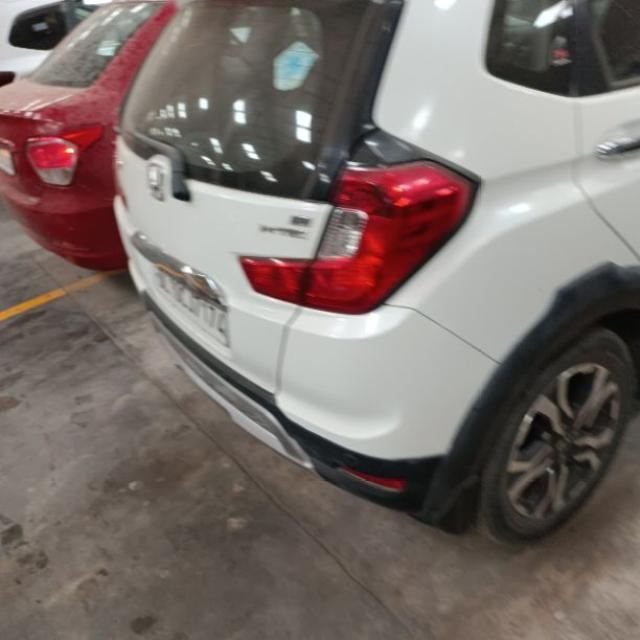license_plate: (149, 262, 231, 348)
